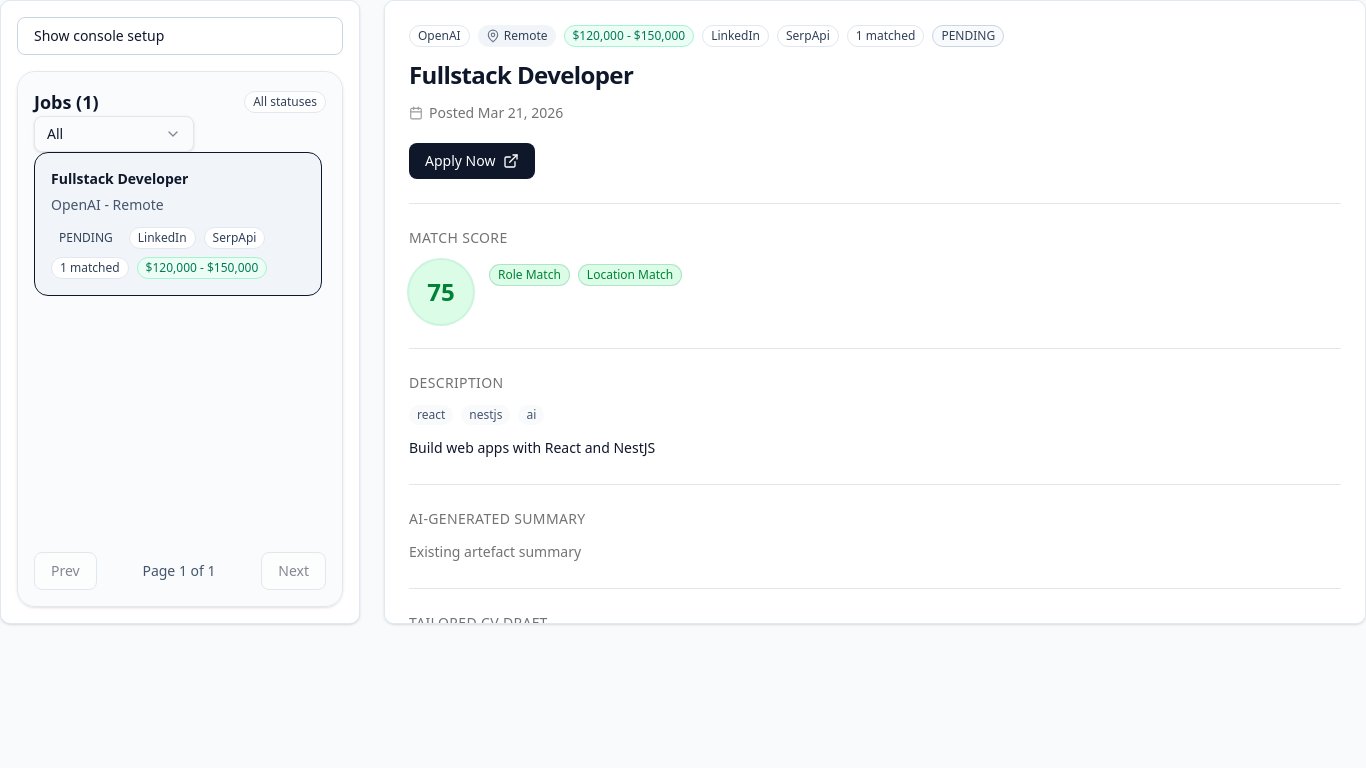
Test: Approval Console › toggles the collapsed setup sections
Expected: the text "Profile Onboarding" is not shown
What coordinates should you click on to do the following:
click the button "Show console setup"
I would click on:
 (99, 36)
Its box is [17, 17, 343, 55].
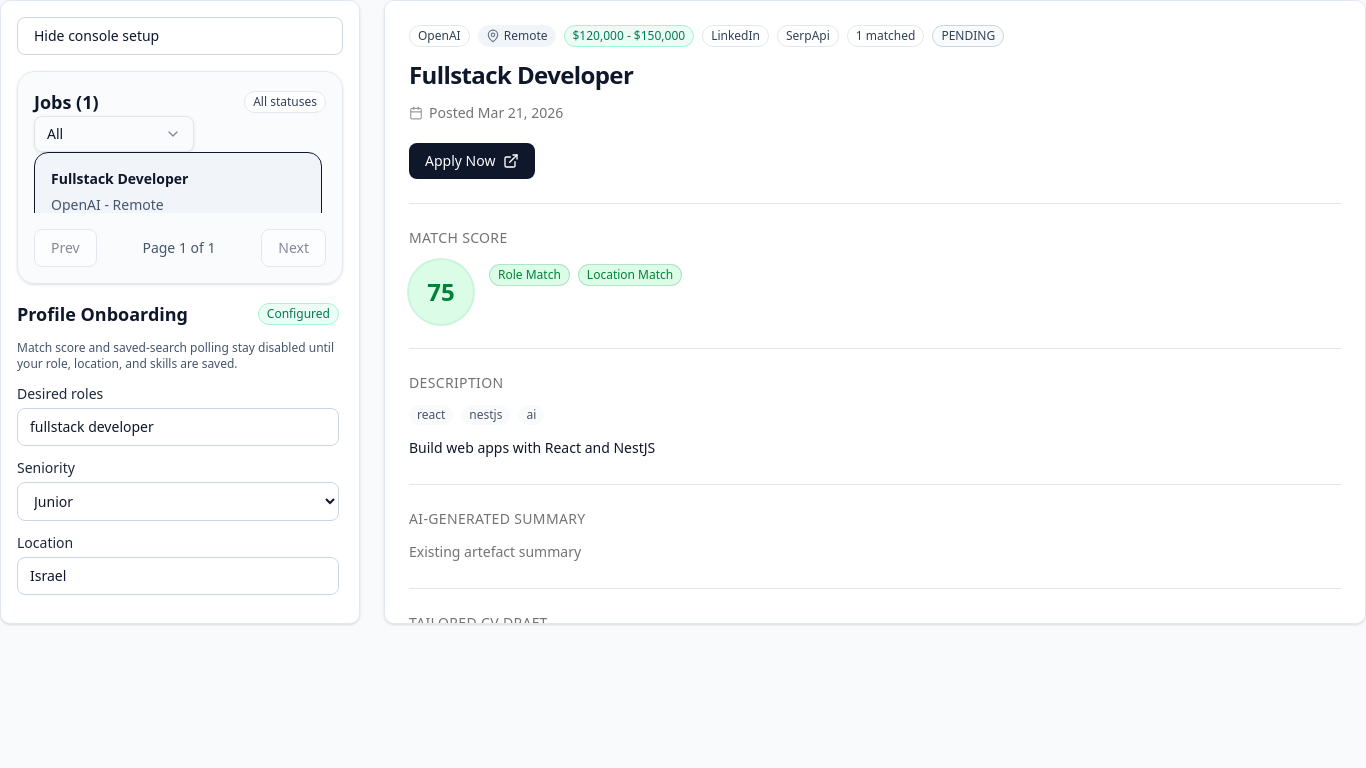
Expected: the heading "Profile Onboarding" is shown, [17, 300, 188, 328]
Expected: the button "Hide console setup" is shown
What coordinates should you click on to do the following:
click the button "Hide console setup"
I would click on:
 (97, 36)
Its box is [17, 17, 343, 55].
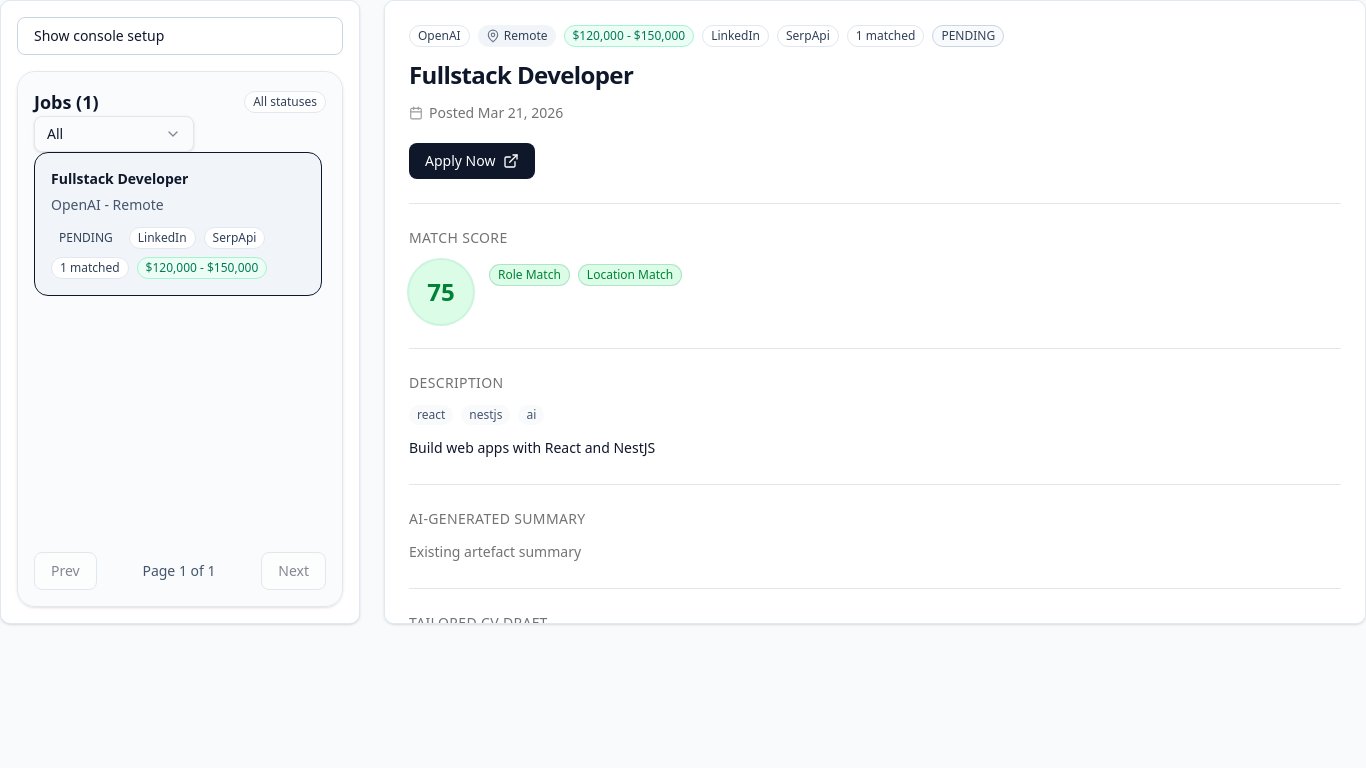
Expected: the heading "Profile Onboarding" is gone
